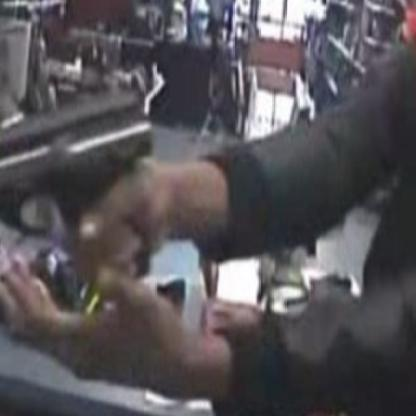gun: (0, 66, 168, 363)
